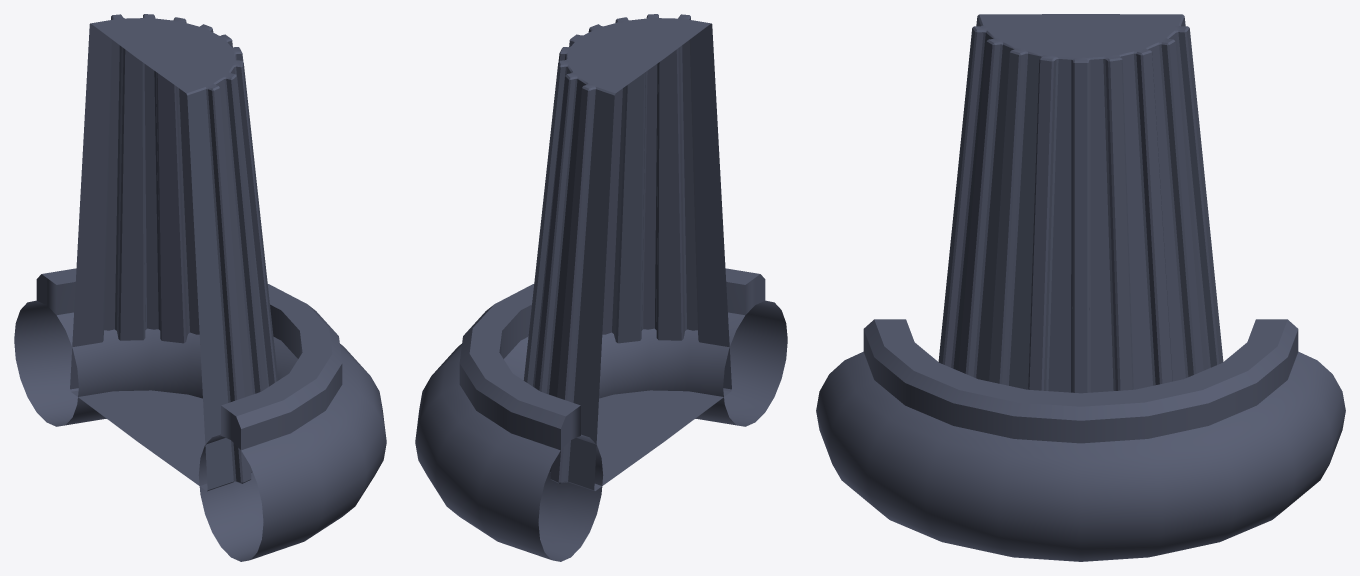
File: furnaceRoomMainVent_block.fbx
3 views of the same model, side by side, from view 1: azimuth 30°, elevation 25°; view 2: azimuth 150°, elevation 25°; view 3: azimuth 270°, elevation 25° (orthographic). The views are drawn at different scales.
Parts seen in each view (by area): view 1: pCylinder112; view 2: pCylinder112; view 3: pCylinder112.
Part boxes in pixels (box(x1,y1,x2,y2)): pCylinder112: box(14, 14, 386, 561); pCylinder112: box(415, 14, 787, 561); pCylinder112: box(816, 14, 1345, 561).
Bounding box in the file's own units: 15.84 × 30.13 × 31.51.
